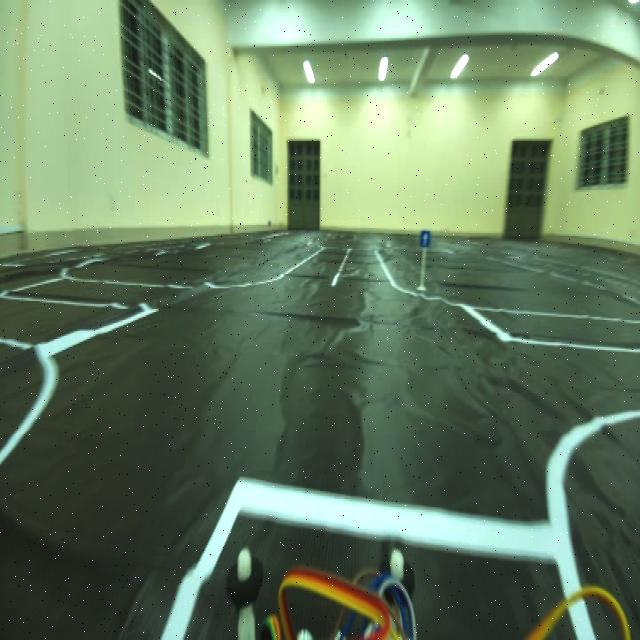onewayroad: (417, 222, 433, 252)
